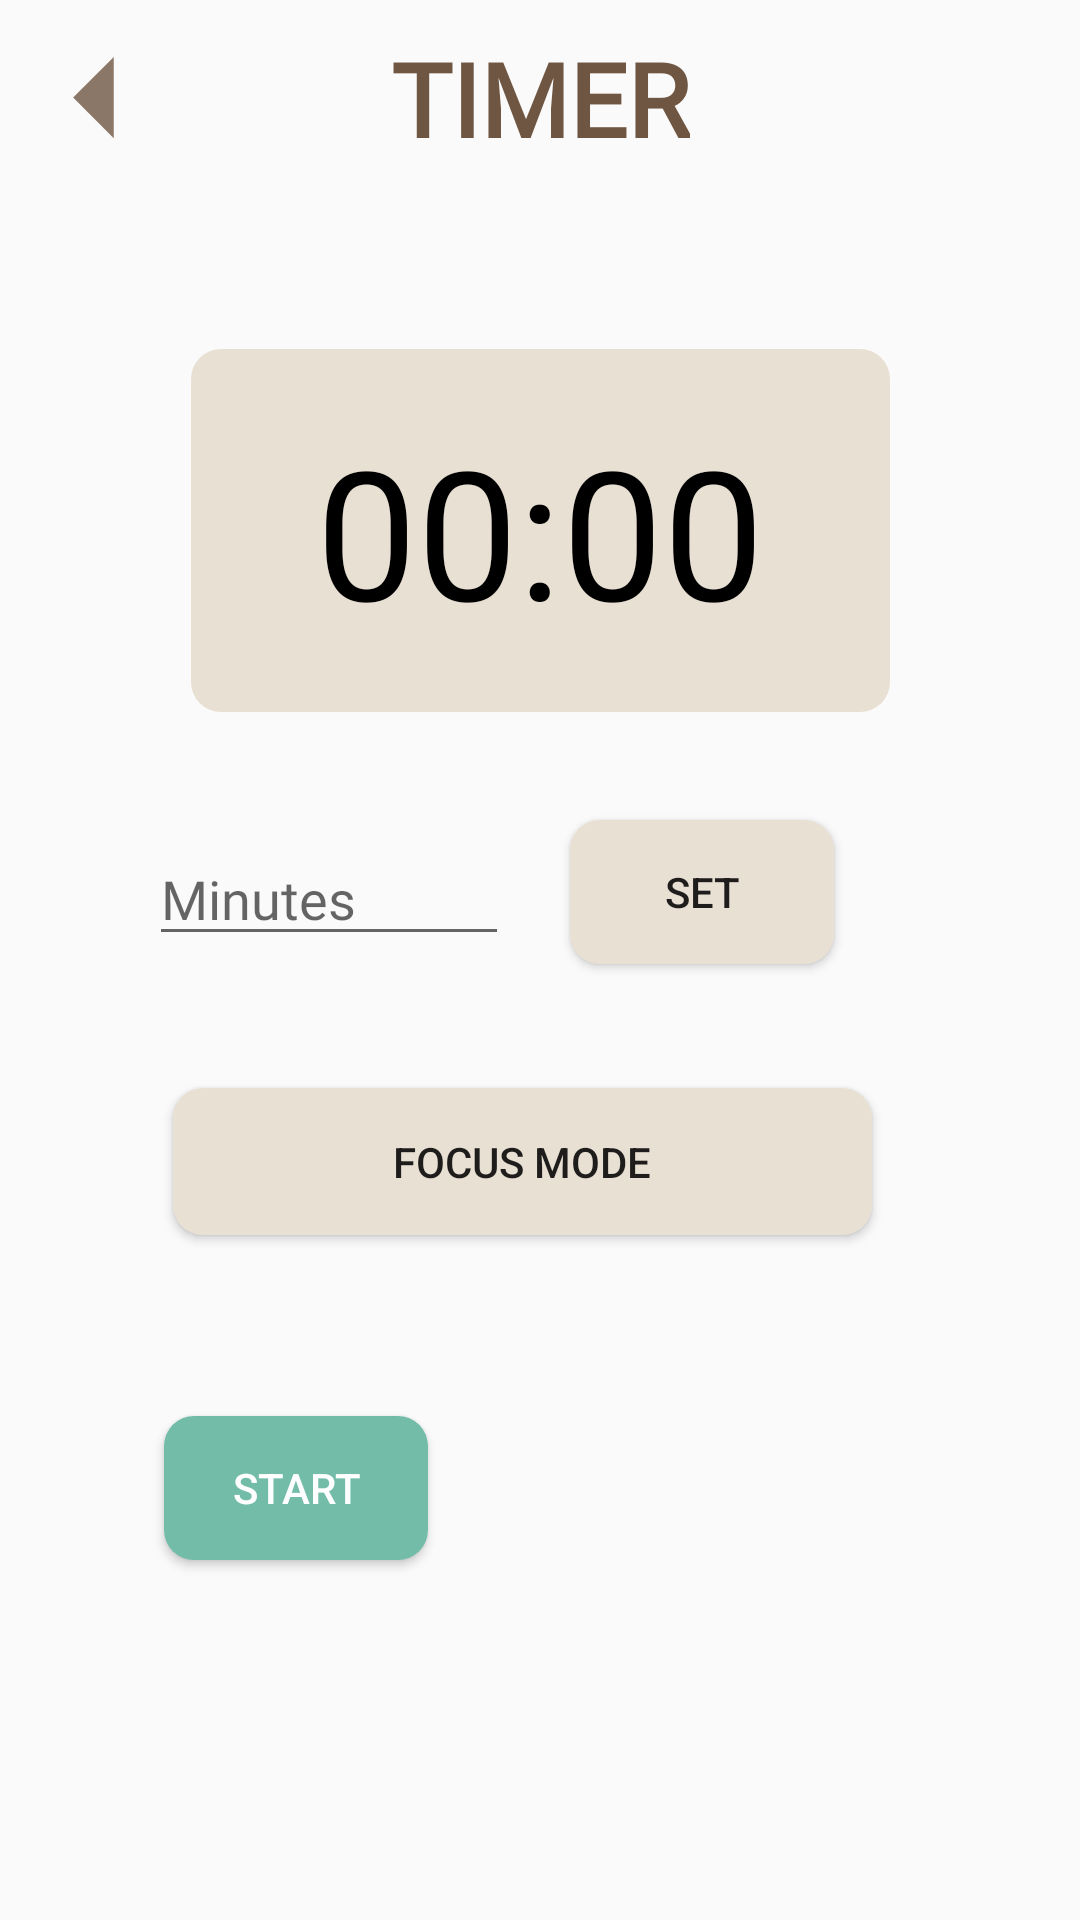

Icons on this 1080*1920 Android screen, each with the point to tap as [x,y]:
back: [93,97]
